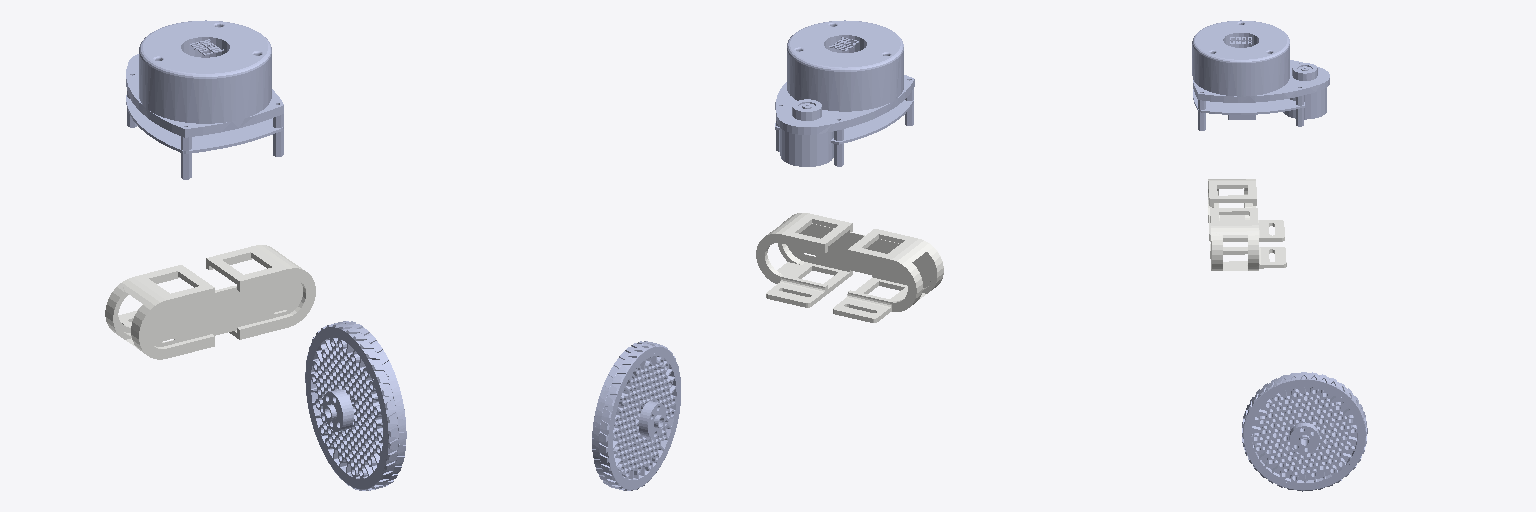
robot.urdf — robotv3:
<?xml version="1.0" encoding="utf-8"?>
<!-- This URDF was automatically created by SolidWorks to URDF Exporter! Originally created by Stephen Brawner ([email redacted]) 
     Commit Version: 1.6.0-1-g15f4949  Build Version: 1.6.7594.29634
     For more information, please see http://wiki.ros.org/sw_urdf_exporter -->
<robot
  name="robotv3">
  <link
    name="base_link">
    <inertial>
      <origin
        xyz="0 0 0"
        rpy="0 0 0" />
      <mass
        value="1.4249" />
      <inertia
        ixx="0.0031413"
        ixy="-4.3508E-09"
        ixz="-8.3589E-08"
        iyy="0.0063902"
        iyz="-1.8491E-05"
        izz="0.0037714" />
    </inertial>
    <visual>
      <origin
        xyz="0 0 0"
        rpy="0 0 0" />
      <geometry>
        <mesh
          filename="package://robotv3/meshes/base_link.STL" />
      </geometry>
      <material
        name="">
        <color
          rgba="1 1 1 1" />
      </material>
    </visual>
    <collision>
      <origin
        xyz="0 0 0"
        rpy="0 0 0" />
      <geometry>
        <mesh
          filename="package://robotv3/meshes/base_link.STL" />
      </geometry>
    </collision>
  </link>

  
  <link
    name="RuedaIzquiera_Link">
    <inertial>
      <origin
        xyz="0 0 0"
        rpy="0 0 0" />
      <mass
        value="0.051174" />
      <inertia
        ixx="2.6466E-05"
        ixy="-2.103E-10"
        ixz="-1.8221E-12"
        iyy="2.6484E-05"
        iyz="-5.8818E-12"
        izz="5.2091E-05" />
    </inertial>
    <visual>
      <origin
        xyz="0 0 0"
        rpy="0 0 0" />
      <geometry>
        <mesh
          filename="package://robotv3/meshes/RuedaIzquiera_Link.STL" />
      </geometry>
      <material
        name="">
        <color
          rgba="0.79216 0.81961 0.93333 1" />
      </material>
    </visual>
    <collision>
      <origin
        xyz="0 0 0"
        rpy="0 0 0" />
      <geometry>
        <mesh
          filename="package://robotv3/meshes/RuedaIzquiera_Link.STL" />
      </geometry>
    </collision>
  </link>


  <joint
    name="RuedaIzquiera_Join"
    type="continuous">
    <origin
      xyz="0.077499 -0.046747 0.0188"
      rpy="1.5708 0.31998 1.5708" />
    <parent
      link="base_link" />
    <child
      link="RuedaIzquiera_Link" />
    <axis
      xyz="0 0 1" />
  </joint>



  <link
    name="RuedaDerecha_Link">
    <inertial>
      <origin
        xyz="0 0 0"
        rpy="0 0 0" />
      <mass
        value="0.051174" />
      <inertia
        ixx="2.6466E-05"
        ixy="-2.1296E-10"
        ixz="-1.7932E-12"
        iyy="2.6484E-05"
        iyz="-6.071E-12"
        izz="5.2091E-05" />
    </inertial>
    <visual>
      <origin
        xyz="0 0 0"
        rpy="0 0 0" />
      <geometry>
        <mesh
          filename="package://robotv3/meshes/RuedaDerecha_Link.dae" />
      </geometry>
      <material
        name="">
        <color
          rgba="0.79216 0.81961 0.93333 1" />
      </material>
    </visual>
    <collision>
      <origin
        xyz="0 0 0"
        rpy="0 0 0" />
      <geometry>
        <mesh
          filename="package://robotv3/meshes/RuedaDerecha_Link.dae" />
      </geometry>
    </collision>
  </link>
  <joint
    name="RuedaDerecha_Join"
    type="continuous">
    <origin
      xyz="-0.077499 -0.046668 0.0188"
      rpy="1.5708 -0.6635 1.5708" />
    <parent
      link="base_link" />
    <child
      link="RuedaDerecha_Link" />
    <axis
      xyz="0 0 1" />
  </joint>





  <link
    name="Camara_Link">
    <inertial>
      <origin
        xyz="0 0 0"
        rpy="0 0 0" />
      <mass
        value="0.021409" />
      <inertia
        ixx="8.5599E-06"
        ixy="-1.5783E-21"
        ixz="-2.1926E-09"
        iyy="9.5278E-06"
        iyz="-1.0965E-06"
        izz="8.6521E-06" />
    </inertial>
    <visual>
      <origin
        xyz="0 0 0"
        rpy="0 0 0" />
      <geometry>
        <mesh
          filename="package://robotv3/meshes/Camara_Link.STL" />
      </geometry>
      <material
        name="">
        <color
          rgba="0.96471 0.96471 0.95294 1" />
      </material>
    </visual>
    <collision>
      <origin
        xyz="0 0 0"
        rpy="0 0 0" />
      <geometry>
        <mesh
          filename="package://robotv3/meshes/Camara_Link.STL" />
      </geometry>
    </collision>
  </link>

  <joint
    name="Camara_Join"
    type="fixed">
    <origin
      xyz="0.0023614 -0.099152 0.1263"
      rpy="1.5708 0 0.023812" />
    <parent
      link="base_link" />
    <child
      link="Camara_Link" />
    <axis
      xyz="0 0 0" />
  </joint>

  <link
    name="Lidar_Link">
    <inertial>
      <origin
        xyz="0 0 0"
        rpy="0 0 0" />
      <mass
        value="0" />
      <inertia
        ixx="0.00058388"
        ixy="0.00015345"
        ixz="8.9875E-07"
        iyy="0.0010719"
        iyz="3.0431E-06"
        izz="0.00091993" />
    </inertial>
    <visual>
      <origin
        xyz="0 0 0"
        rpy="0 0 0" />
      <geometry>
        <mesh
          filename="package://robotv3/meshes/Lidar_Link.STL" />
      </geometry>
      <material
        name="">
        <color
          rgba="0.79216 0.81961 0.93333 1" />
      </material>
    </visual>
    <collision>
      <origin
        xyz="0 0 0"
        rpy="0 0 0" />
      <geometry>
        <mesh
          filename="package://robotv3/meshes/Lidar_Link.STL" />
      </geometry>
    </collision>
  </link>

  <joint
    name="Lider_Join"
    type="fixed">
    <origin
      xyz="0 -0.07775 0.2396"
      rpy="1.5708 0 1.5708" />
    <parent
      link="base_link" />
    <child
      link="Lidar_Link" />
    <axis
      xyz="0 0 0" />
  </joint>
    <!--              GAZEBO PLUGINS                     -->


  <!--                    differential_drive_controller               -->
  <gazebo>
    <plugin filename="libgazebo_ros_diff_drive.so" name="differential_drive_controller">
      <leftJoint>RuedaIzquiera_Join</leftJoint>
      <legacyMode>false</legacyMode>
      <rightJoint>RuedaDerecha_Join</rightJoint>

      <robotBaseFrame>base_link</robotBaseFrame>
      <wheelSeperation>0.235</wheelSeperation>
      <wheelDiameter>0.090</wheelDiameter>
      <publishWheelJointState>true</publishWheelJointState>
    </plugin>
  </gazebo>
</robot>

--- What the picture shows (computed from the rendered views, not written in the file) ---
The picture shows the robot from 3 angles, left to right: view 1: azimuth 30°, elevation 25°; view 2: azimuth 150°, elevation 25°; view 3: azimuth 270°, elevation 25°; orthographic projection.
Robot: robotv3 — 5 links, 4 joints (2 continuous, 2 fixed); root link base_link; default pose: every joint at zero.
Visible links, largest first — view 1: Lidar_Link, Camara_Link, RuedaIzquiera_Link; view 2: Lidar_Link, Camara_Link, RuedaIzquiera_Link; view 3: RuedaIzquiera_Link, Lidar_Link, Camara_Link.
Link boxes in pixels (left/top/right/bottom): Lidar_Link: left=126, top=20, right=283, bottom=179; Camara_Link: left=105, top=245, right=315, bottom=359; RuedaIzquiera_Link: left=305, top=321, right=406, bottom=490; Lidar_Link: left=775, top=20, right=914, bottom=166; Camara_Link: left=756, top=213, right=943, bottom=322; RuedaIzquiera_Link: left=592, top=341, right=680, bottom=490; RuedaIzquiera_Link: left=1242, top=372, right=1367, bottom=491; Lidar_Link: left=1192, top=20, right=1329, bottom=130; Camara_Link: left=1208, top=179, right=1286, bottom=270.
Size in the robot's own frame: 0.1894 by 0.1252 by 0.2989 metres.
Meshes: 5 distinct files referenced, 3 mesh visuals loaded (3 binary STL); not drawn: 1 (reference not matched to a file when rendering), 1 (file found but could not be loaded).
